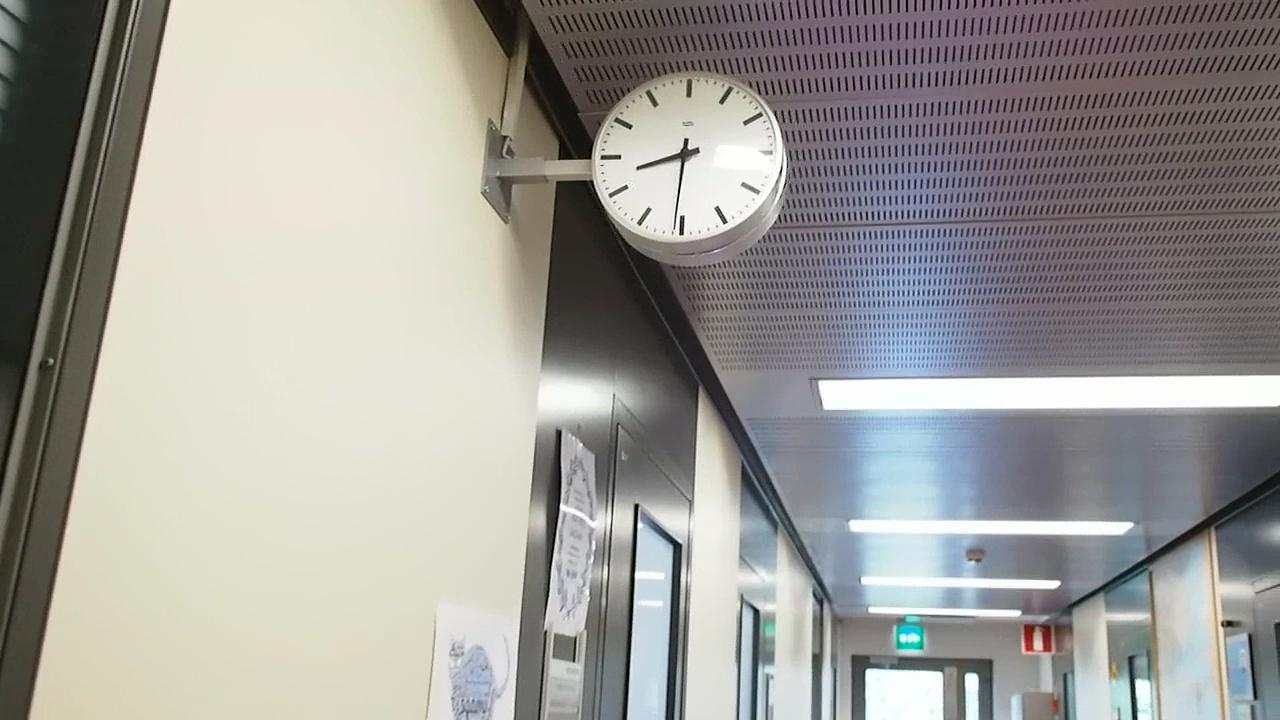clock: (586, 57, 796, 260)
